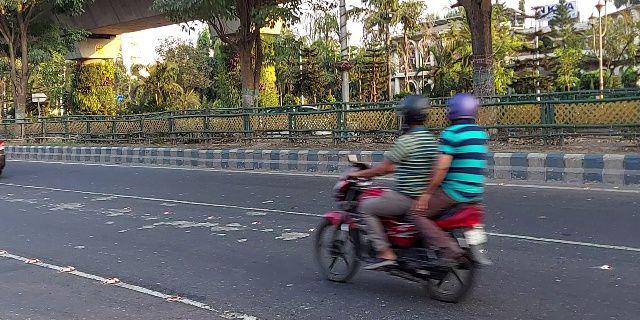Motorbike: (311, 92, 491, 303)
